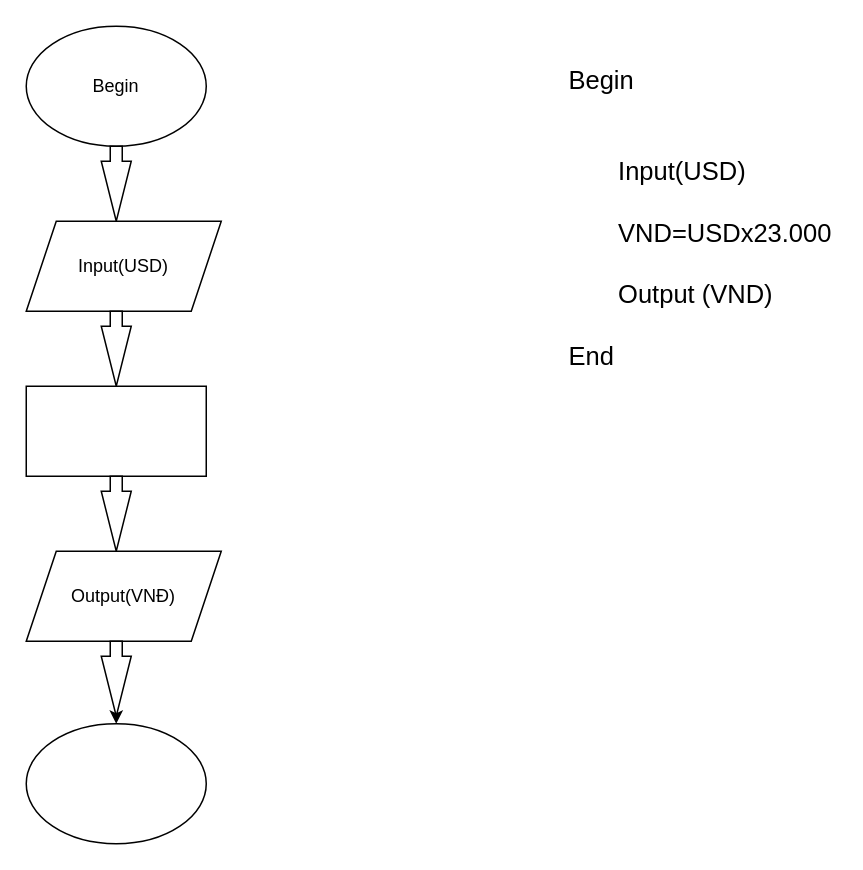
Image size: 863x870. Some labels were removed from this diagram. The shapes that lost their labels are listed below. From the top down, each one's box as (x1, y1, x2, y2) in pixels, then its label:
(25, 385, 206, 476): VND=USD x 23.000
(25, 722, 206, 844): End
